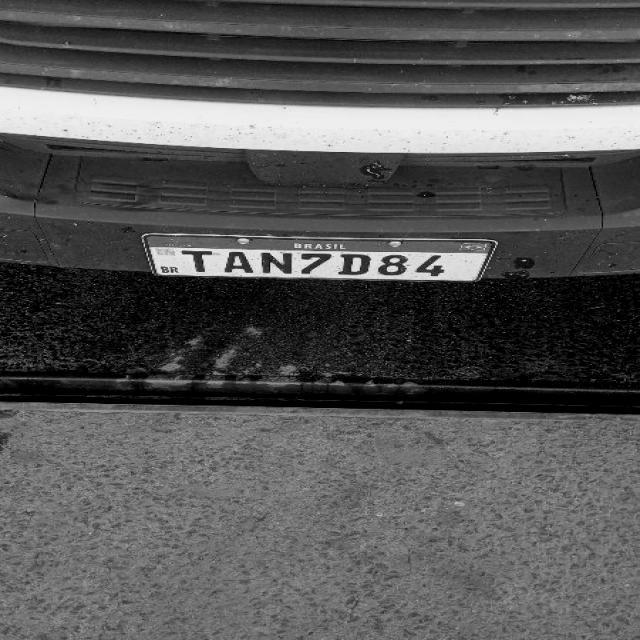placa_mercosul: (145, 232, 497, 283)
